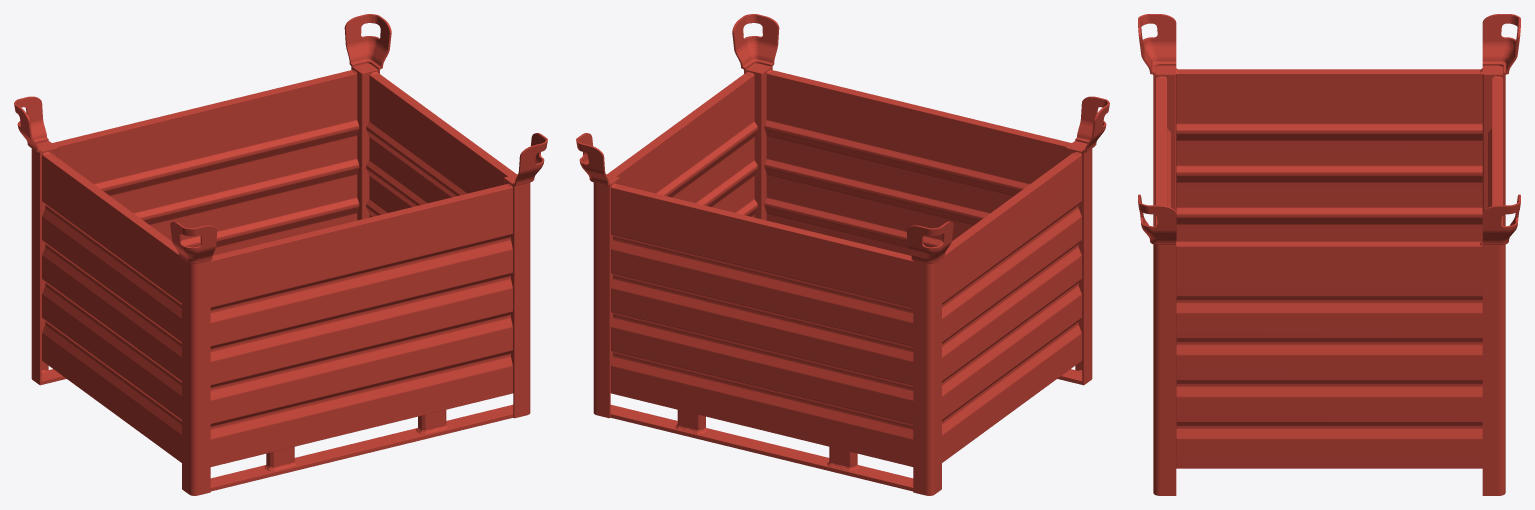
File: storageSystem_rack_heavyDuty_f01.glb
3 renders of one model, left to right at view 1: azimuth 30°, elevation 25°; view 2: azimuth 150°, elevation 25°; view 3: azimuth 270°, elevation 25°, orthographic. The views are drawn at different scales.
Bounding box in the file's own units: 1.3 × 0.9336 × 1.09.
